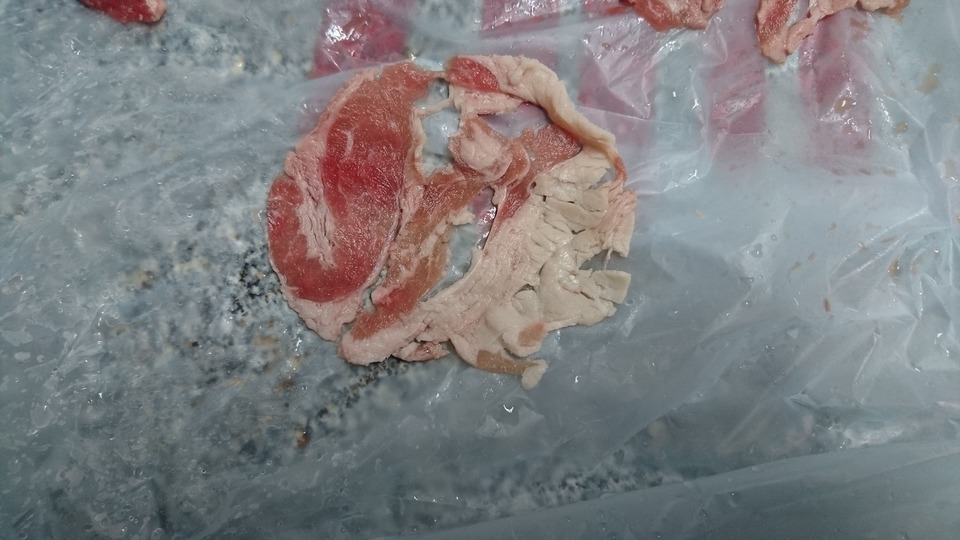restructured meat: (268, 51, 629, 386)
